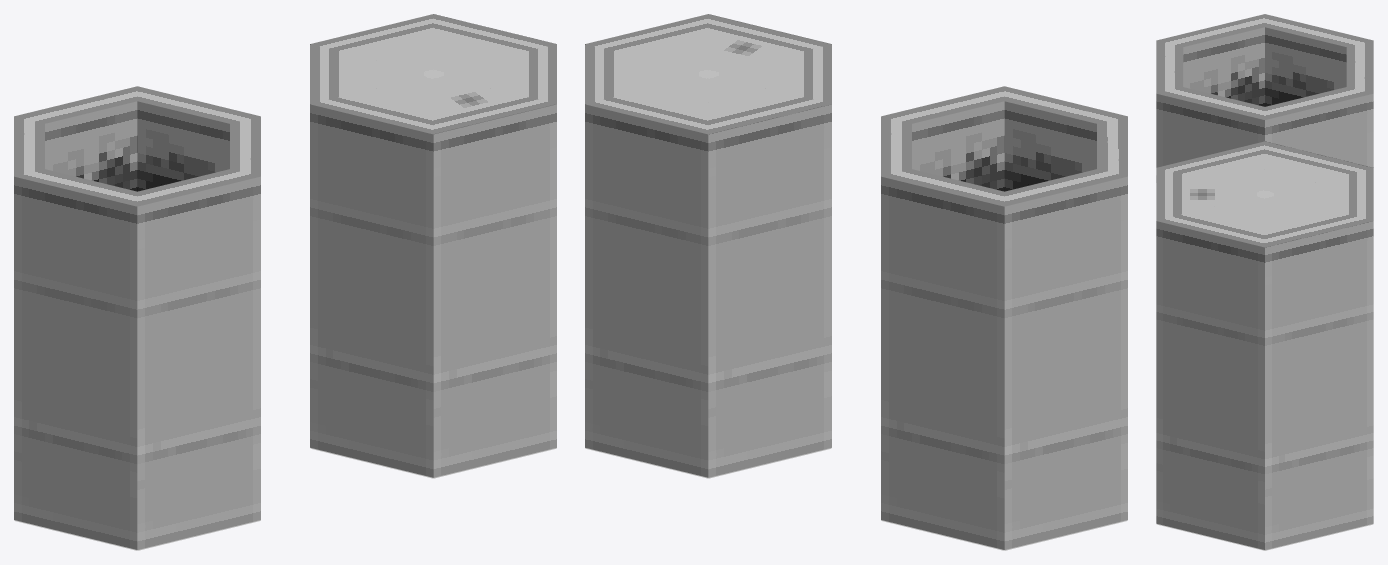
The model's file is OilDrum.fbx.
3 renders of one model, left to right at view 1: azimuth 30°, elevation 25°; view 2: azimuth 150°, elevation 25°; view 3: azimuth 270°, elevation 25°, orthographic. The views are drawn at different scales.
Parts seen in each view (by area): view 1: OilDrum_Closed, OilDrum_Open; view 2: OilDrum_Closed, OilDrum_Open; view 3: OilDrum_Closed, OilDrum_Open.
Part boxes in pixels (left/top/right/bottom): OilDrum_Closed: left=310, top=14, right=556, bottom=478; OilDrum_Open: left=14, top=86, right=260, bottom=550; OilDrum_Closed: left=585, top=14, right=831, bottom=478; OilDrum_Open: left=881, top=86, right=1127, bottom=550; OilDrum_Closed: left=1156, top=141, right=1373, bottom=550; OilDrum_Open: left=1156, top=14, right=1373, bottom=167.
Bounding box in the file's own units: 206 × 125 × 81.25.
Materials: 1 (1 with a texture image).
